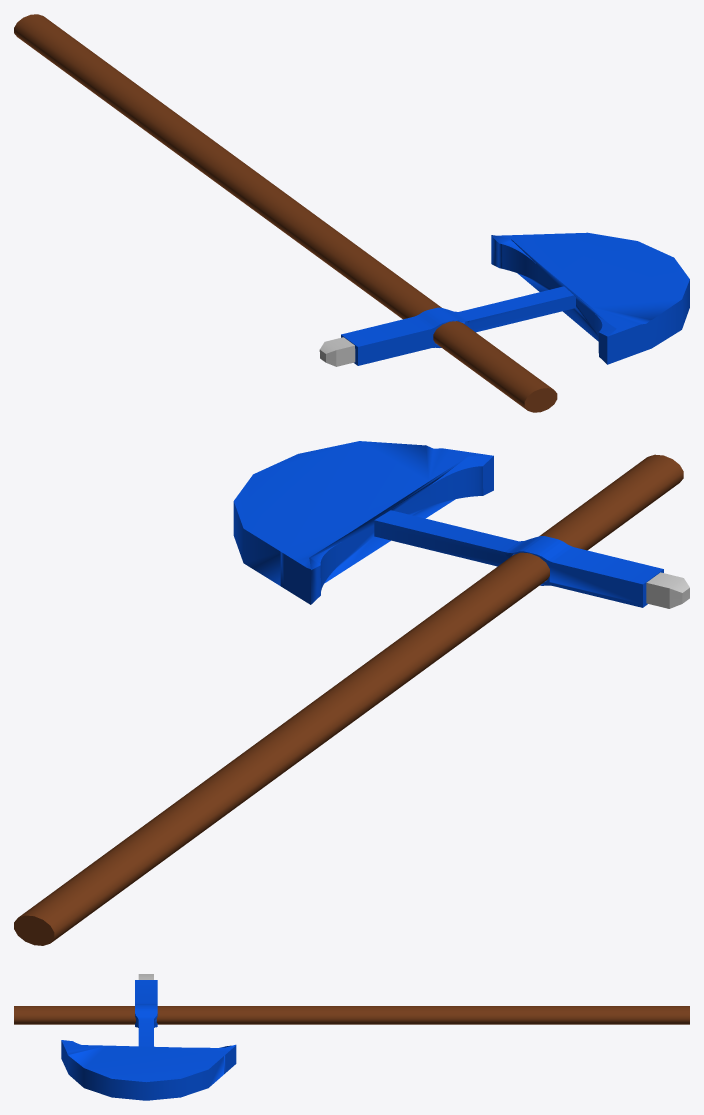
File: balta.fbx
3 renders of one model, top to bottom at view 1: azimuth 30°, elevation 25°; view 2: azimuth 150°, elevation 25°; view 3: azimuth 270°, elevation 25°, orthographic. The views are drawn at different scales.
Parts seen in each view (by area): view 1: Cylinder001, Cylinder002; view 2: Cylinder001, Cylinder002; view 3: Cylinder002, Cylinder001.
Part boxes in pixels (bbox=[...]): Cylinder001: bbox=[319, 232, 689, 366]; Cylinder002: bbox=[14, 14, 557, 412]; Cylinder001: bbox=[233, 441, 689, 608]; Cylinder002: bbox=[14, 454, 683, 945]; Cylinder002: bbox=[14, 1006, 689, 1024]; Cylinder001: bbox=[61, 974, 236, 1100].
Bounding box in the file's own units: 111 × 9.16 × 279.
